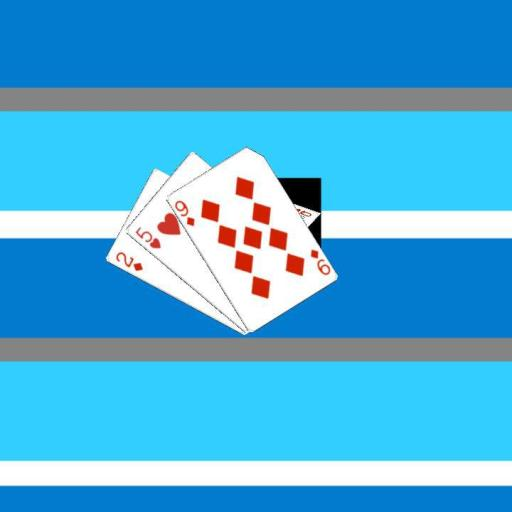2D: (113, 249, 145, 272)
5H: (132, 224, 162, 251)
9D: (171, 197, 196, 228), (307, 246, 332, 277)
